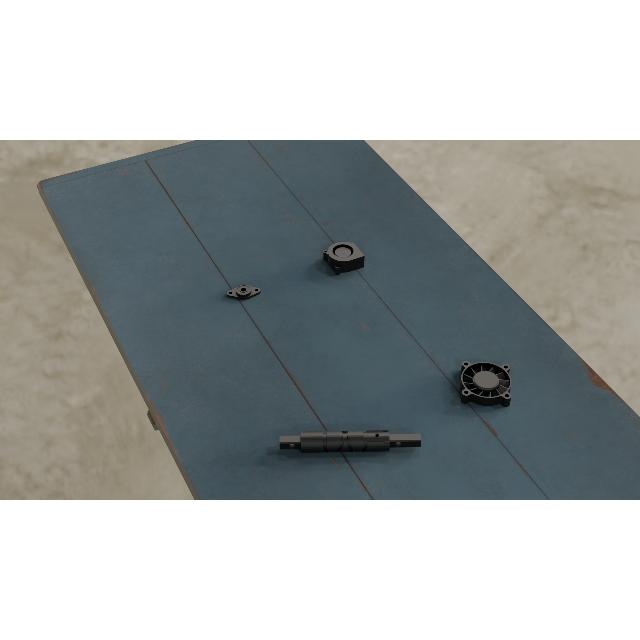Pieza1: (280, 425, 422, 457)
Pieza2: (226, 282, 262, 302)
Pieza3: (322, 238, 364, 278)
Pieza4: (460, 360, 512, 408)
